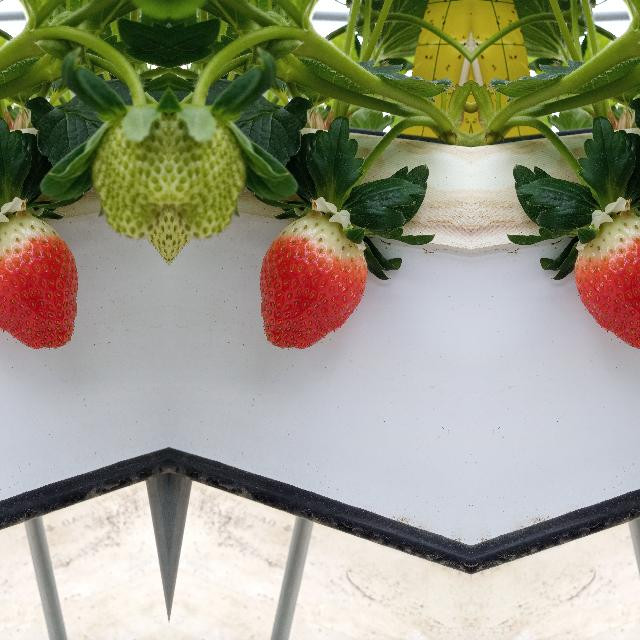Health_75: (258, 210, 368, 350), (0, 210, 77, 350), (573, 210, 640, 350)
